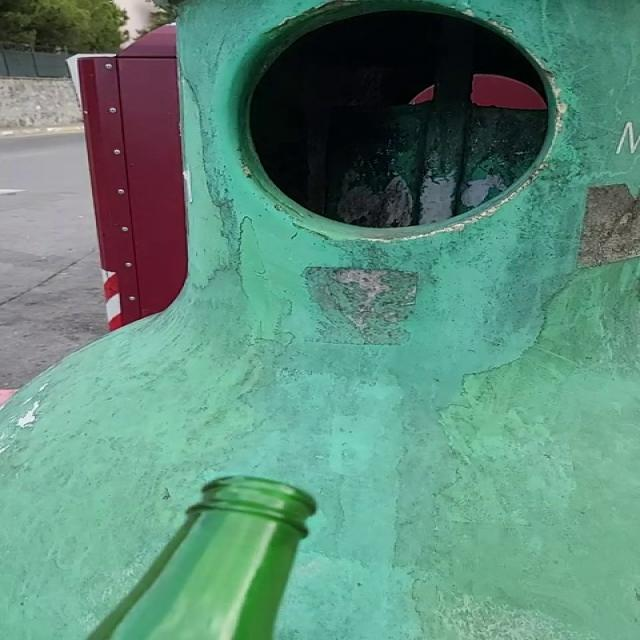glass: (88, 477, 316, 640)
